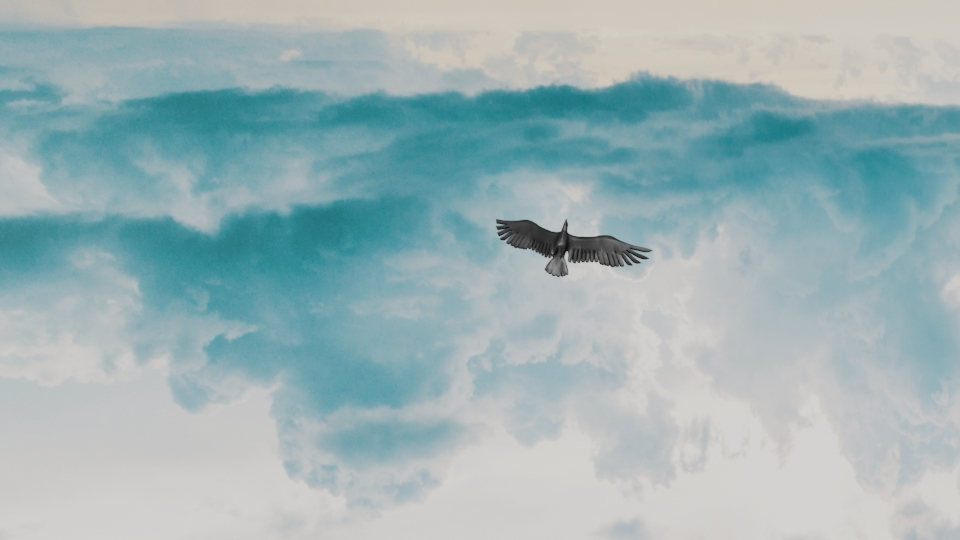bird: (492, 218, 651, 277)
